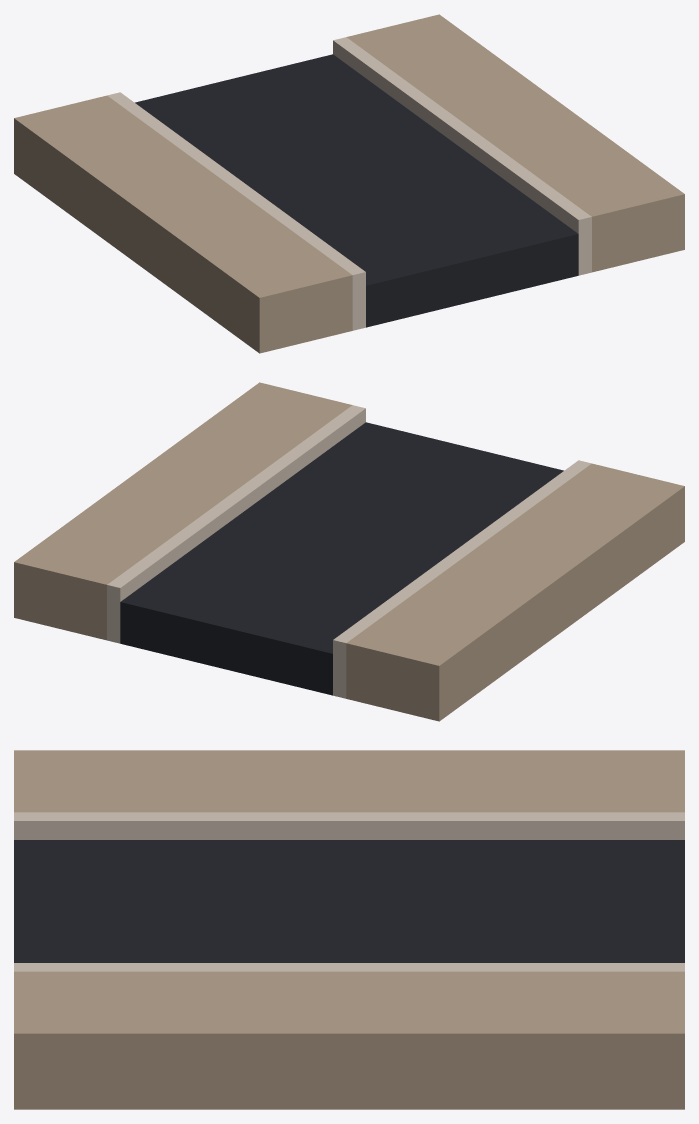
The model's file is road1.obj.
The picture shows the model from 3 angles, top to bottom: view 1: azimuth 30°, elevation 25°; view 2: azimuth 150°, elevation 25°; view 3: azimuth 270°, elevation 25°; orthographic projection. The views are drawn at different scales.
Bounding box in the file's own units: 3.2 × 0.4 × 3.2.
Materials: 1 (1 with a texture image).
